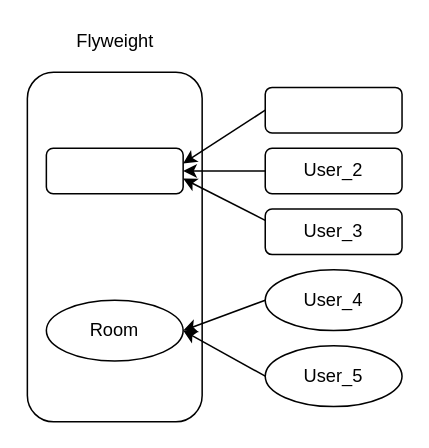
The diagram is 429 pixels wide and 448 high, and some of its shapes have lost their labels. Each missing label, with the centre of its shape:
"Car" belongs at point 114,170.
"User_1" belongs at point 333,109.
